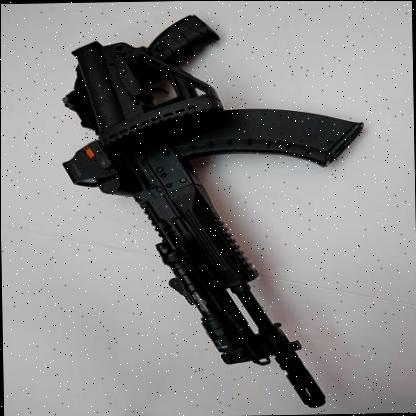rifle: (34, 21, 383, 413)
